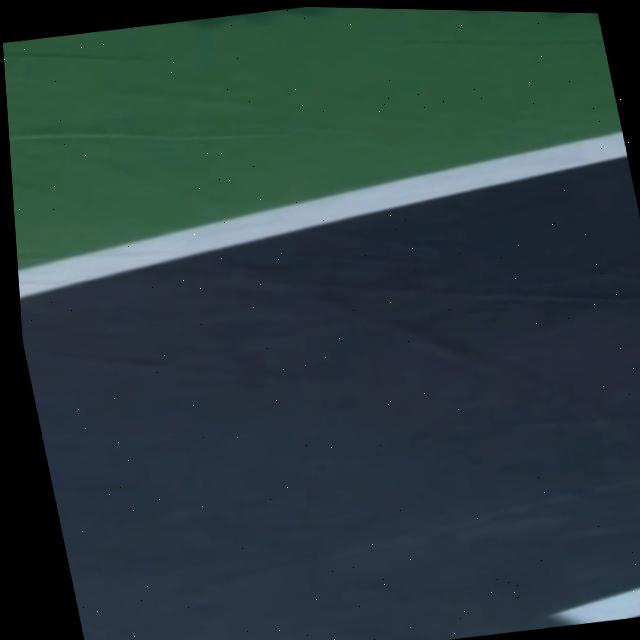center: (551, 588, 640, 625)
right: (18, 132, 628, 298)
